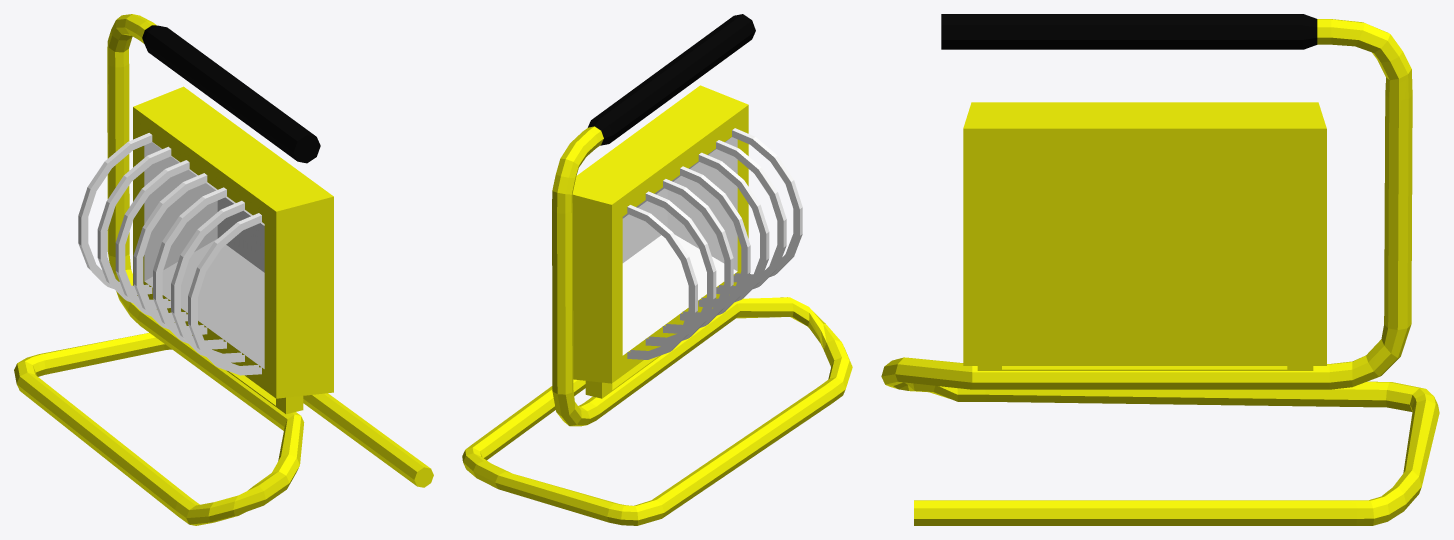
File: ConstructionLight_Small.fbx
3 renders of one model, left to right at view 1: azimuth 30°, elevation 25°; view 2: azimuth 150°, elevation 25°; view 3: azimuth 270°, elevation 25°, orthographic. The views are drawn at different scales.
Parts seen in each view (by area): view 1: Box001; view 2: Box001; view 3: Box001.
Boxes of the visible parts, left/top/right/bottom form: Box001: left=14, top=14, right=433, bottom=525; Box001: left=462, top=14, right=852, bottom=525; Box001: left=881, top=14, right=1439, bottom=525.
Size of the model in its own units: 23.14 by 35.66 by 40.22.
